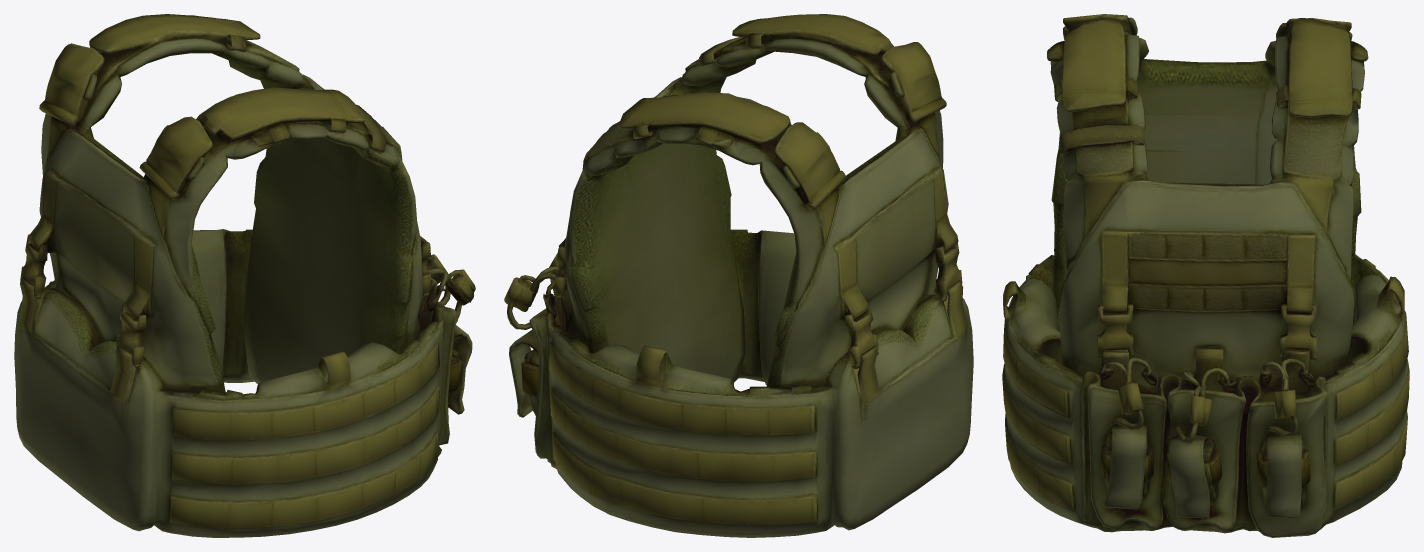
File: harness_vest.glb
3 views of the same model, side by side, from view 1: azimuth 30°, elevation 25°; view 2: azimuth 150°, elevation 25°; view 3: azimuth 270°, elevation 25° (orthographic).
Visible parts, largest first — view 1: tripo_node_71dd1cba-fec6-4661-886f-4ce5e1327a41; view 2: tripo_node_71dd1cba-fec6-4661-886f-4ce5e1327a41; view 3: tripo_node_71dd1cba-fec6-4661-886f-4ce5e1327a41.
Boxes of the visible parts, <box> form: tripo_node_71dd1cba-fec6-4661-886f-4ce5e1327a41: <box>14,14,475,537</box>; tripo_node_71dd1cba-fec6-4661-886f-4ce5e1327a41: <box>504,14,973,537</box>; tripo_node_71dd1cba-fec6-4661-886f-4ce5e1327a41: <box>1002,14,1409,537</box>.
Size of the model in its own units: 0.9746 by 0.998 by 0.9043.
Materials: 1 (1 with a texture image).
